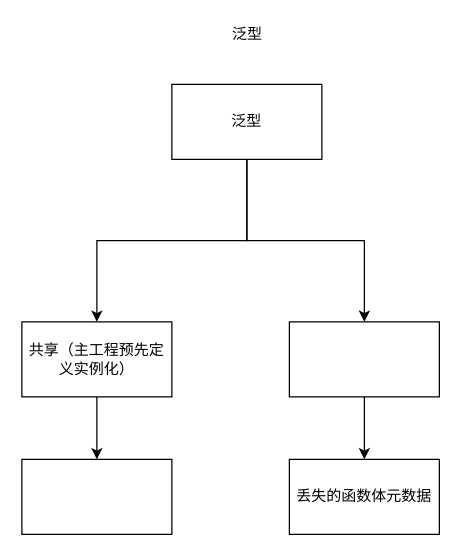
Image size: 461x556. Some labels were removed from this diagram. The shapes that lost their labels are listed below. From the top down, each one's centre as x and y in pixels, then its label:
At (363,359): "补充元数据".
At (96,496): "限制性（开发版定制）".
